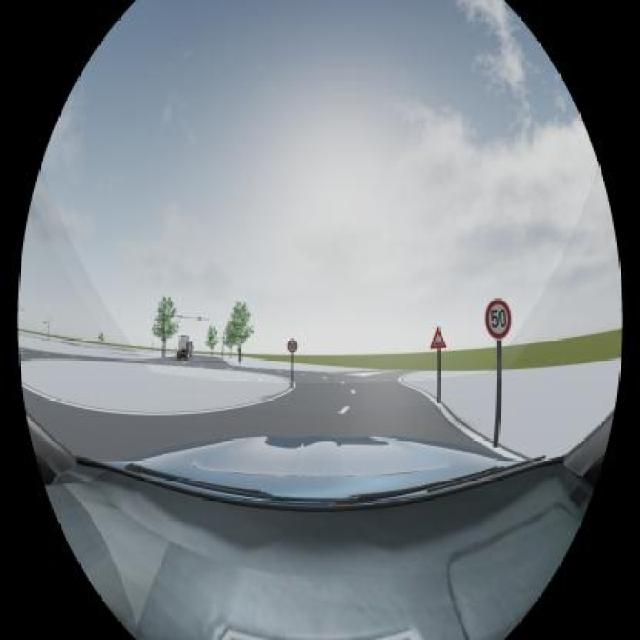forb_speed_over_50: (484, 297, 515, 338), (287, 338, 298, 354)
